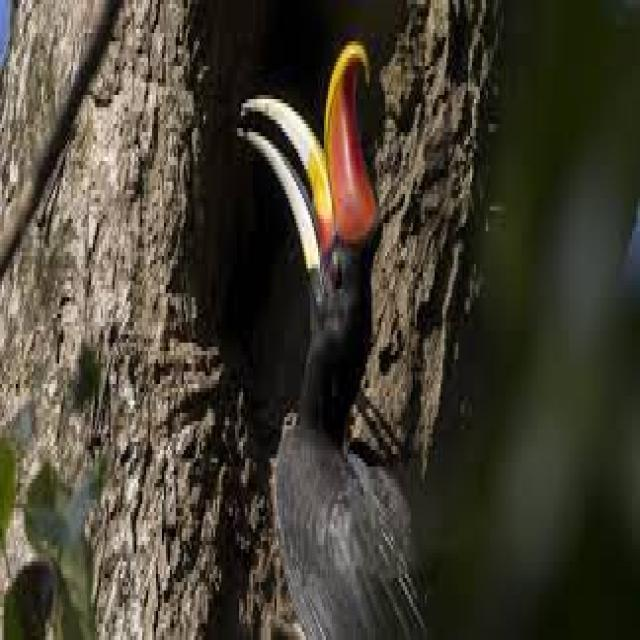Hornbill: (233, 28, 448, 640)
